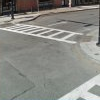crosswalk: (3, 24, 77, 42), (56, 73, 99, 100)
